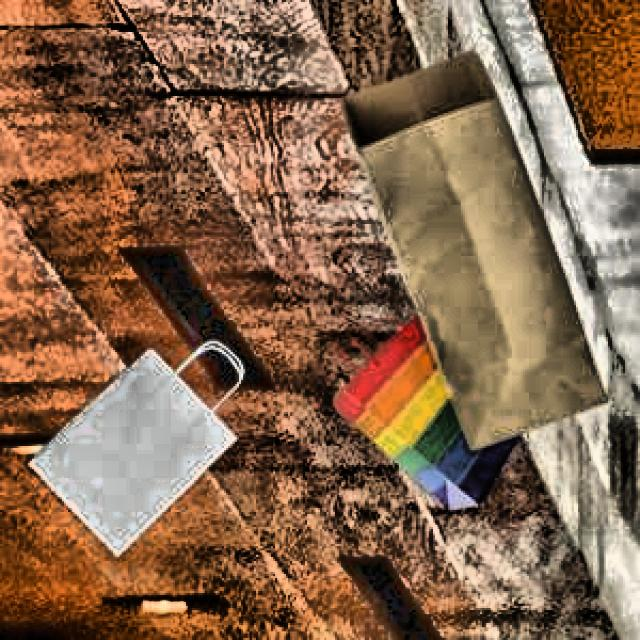Paper-bag: (338, 46, 614, 451), (26, 329, 270, 567), (316, 295, 536, 519)
